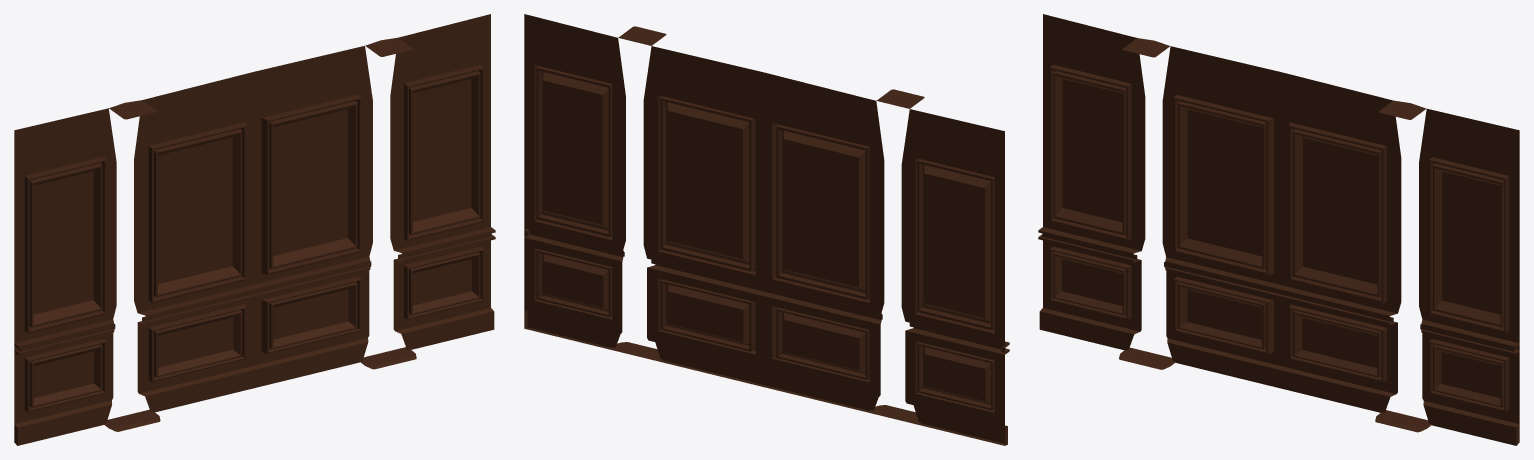
Rendered from wall1.fbx.
3 renders of one model, left to right at view 1: azimuth 30°, elevation 25°; view 2: azimuth 150°, elevation 25°; view 3: azimuth 330°, elevation 25°, orthographic.
Parts seen in each view (by area): view 1: FLOOR1plane; view 2: FLOOR1plane; view 3: FLOOR1plane.
Part boxes in pixels (bbox=[...]): FLOOR1plane: bbox=[14, 14, 495, 445]; FLOOR1plane: bbox=[524, 14, 1009, 445]; FLOOR1plane: bbox=[1038, 14, 1519, 445].
Bounding box in the file's own units: 6751 × 4246 × 408.
